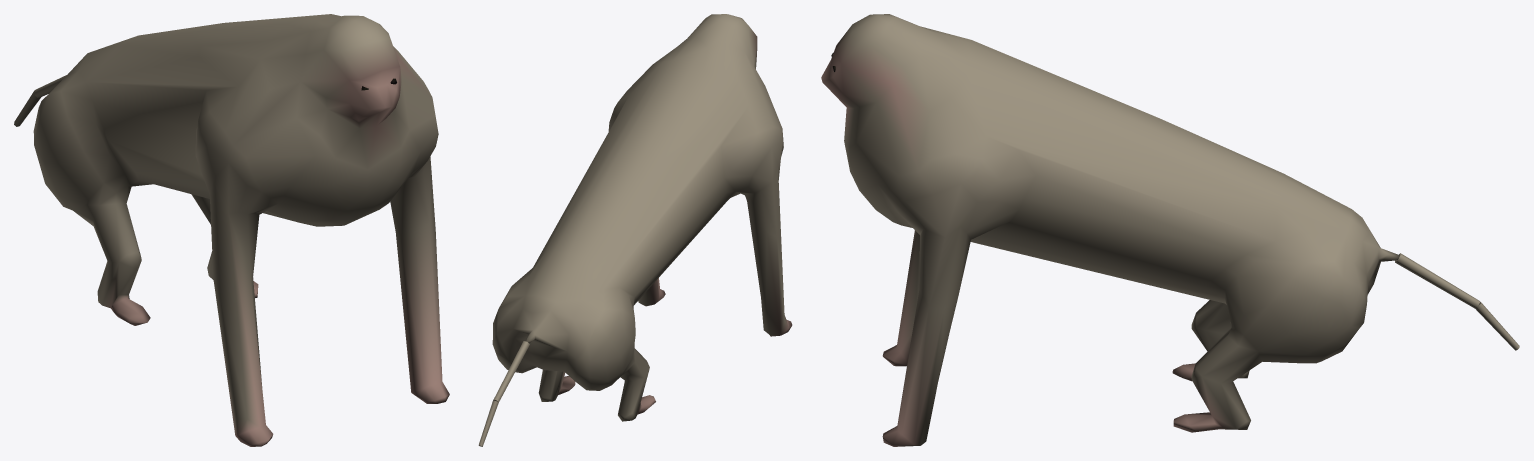
The model's file is makak.glb.
The picture shows the model from 3 angles, left to right: view 1: azimuth 30°, elevation 25°; view 2: azimuth 150°, elevation 25°; view 3: azimuth 270°, elevation 25°; orthographic projection. The views are drawn at different scales.
Parts seen in each view (by area): view 1: lack; view 2: lack; view 3: lack.
Boxes of the visible parts, x1=… form: lack: x1=14, y1=14, x2=449, y2=446; lack: x1=478, y1=14, x2=792, y2=446; lack: x1=821, y1=14, x2=1519, y2=446.
Size of the model in its own units: 0.2586 by 0.4704 by 0.7692.
